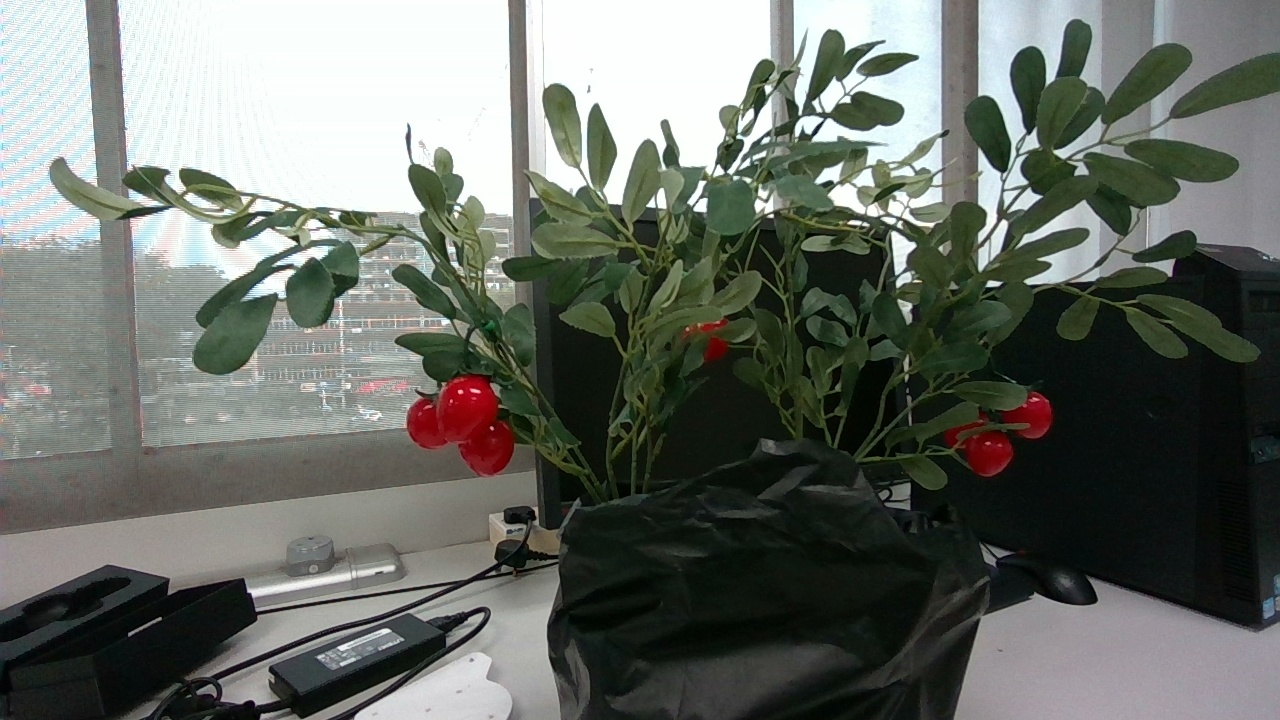peduncle: (463, 327, 473, 365)
strawberry: (436, 374, 498, 442), (458, 420, 515, 476), (1004, 391, 1055, 439), (966, 430, 1016, 476), (406, 396, 448, 449), (704, 336, 730, 363)
